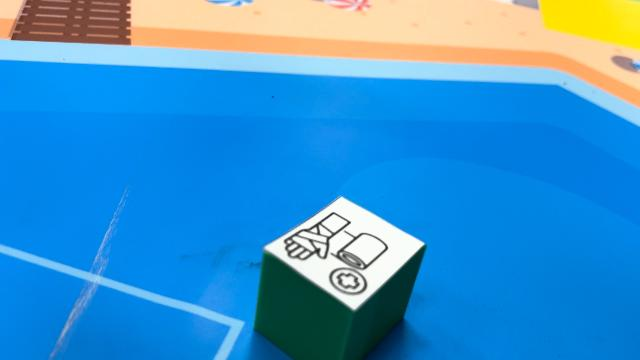bandage: (253, 195, 427, 359)
